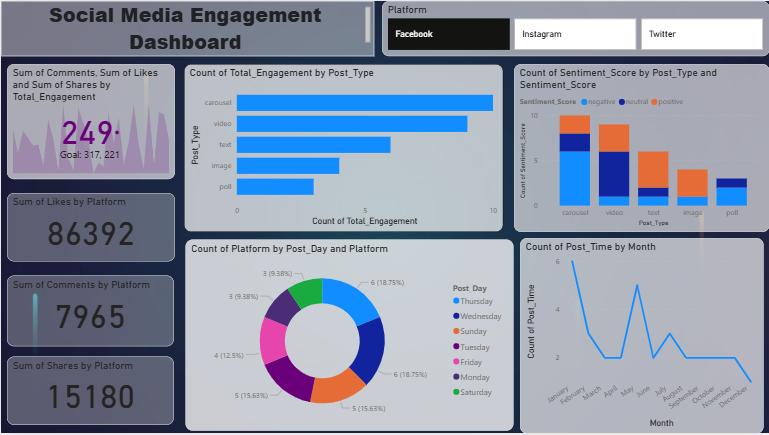

This screenshot's page, from the dashboard's own definition file:
{"tool":"powerbi","page":{"name":"Page 1","canvas":[1280,720],"ordinal":0},"visuals":[{"type":"textbox","box":[0,0,621.7,91.7],"z":0},{"type":"kpi","fields":{"TrendLine":["social_media_engagement.Total_Engagement"],"Indicator":["Sum(social_media_engagement.Comments)"],"Goal":["Sum(social_media_engagement.Likes)","Sum(social_media_engagement.Shares)"]},"box":[10,106,280,192],"z":1000},{"type":"donutChart","fields":{"Category":["social_media_engagement.Post_Day"],"Series":["social_media_engagement.Platform"],"Y":["CountNonNull(social_media_engagement.Platform)"]},"box":[306.7,398.3,546.7,318.3],"z":2000},{"type":"clusteredBarChart","fields":{"Category":["social_media_engagement.Post_Type"],"Y":["CountNonNull(social_media_engagement.Total_Engagement)"]},"box":[306,106,532,280],"z":3000},{"type":"advancedSlicerVisual","fields":{"Values":["social_media_engagement.Platform"]},"box":[634,0,646,92],"z":4000},{"type":"lineChart","fields":{"Category":["social_media_engagement.Post_Date.Variation.Date Hierarchy.Month","social_media_engagement.Post_Date.Variation.Date Hierarchy.Day"],"Y":["CountNonNull(social_media_engagement.Post_Time)"]},"box":[864,394,406,326],"z":4001},{"type":"kpi","fields":{"Indicator":["Sum(social_media_engagement.Likes)"],"TrendLine":["social_media_engagement.Platform"]},"box":[10,320,280,114],"z":4002},{"type":"kpi","fields":{"Indicator":["Sum(social_media_engagement.Comments)"],"TrendLine":["social_media_engagement.Platform"]},"box":[10,458,278,118],"z":4003},{"type":"kpi","fields":{"Indicator":["Sum(social_media_engagement.Shares)"],"TrendLine":["social_media_engagement.Platform"]},"box":[10,592,278,114],"z":4004},{"type":"lineStackedColumnComboChart","fields":{"Category":["social_media_engagement.Post_Type"],"Series":["social_media_engagement.Sentiment_Score"],"Y":["CountNonNull(social_media_engagement.Sentiment_Score)"]},"box":[854,106,426,280],"z":4005}]}

Visuals, with their boxes in screenshot pixels (x1, y1, x2, y2), scaled from the page's 1280x720 canvas onto the 769x435 screenshot:
textbox: bbox=(0, 0, 374, 55)
kpi - social_media_engagement.Total_Engagement x Sum(social_media_engagement.Comments): bbox=(6, 64, 174, 180)
donutChart - social_media_engagement.Post_Day x social_media_engagement.Platform: bbox=(184, 241, 513, 433)
clusteredBarChart - social_media_engagement.Post_Type x CountNonNull(social_media_engagement.Total_Engagement): bbox=(184, 64, 503, 233)
advancedSlicerVisual - social_media_engagement.Platform: bbox=(381, 0, 768, 56)
lineChart - social_media_engagement.Post_Date.Variation.Date Hierarchy.Month x social_media_engagement.Post_Date.Variation.Date Hierarchy.Day: bbox=(519, 238, 763, 434)
kpi - Sum(social_media_engagement.Likes) x social_media_engagement.Platform: bbox=(6, 193, 174, 262)
kpi - Sum(social_media_engagement.Comments) x social_media_engagement.Platform: bbox=(6, 277, 173, 348)
kpi - Sum(social_media_engagement.Shares) x social_media_engagement.Platform: bbox=(6, 358, 173, 427)
lineStackedColumnComboChart - social_media_engagement.Post_Type x social_media_engagement.Sentiment_Score: bbox=(513, 64, 768, 233)
